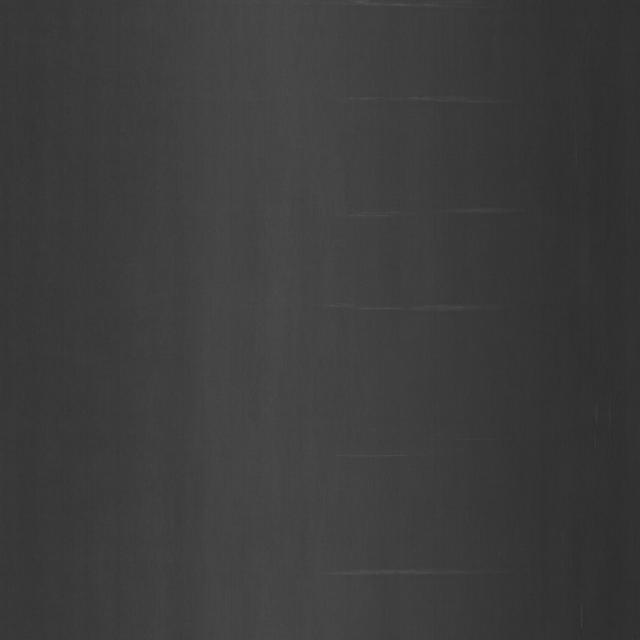punching_hole: (345, 28, 561, 640)
